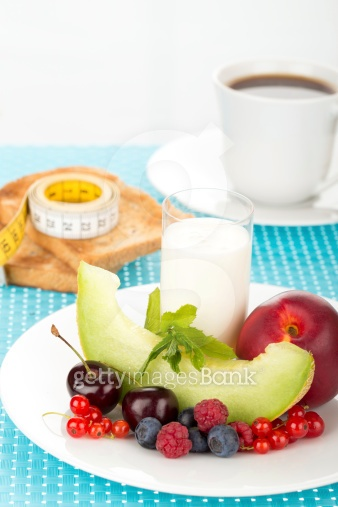glass of milk: (159, 190, 259, 353)
